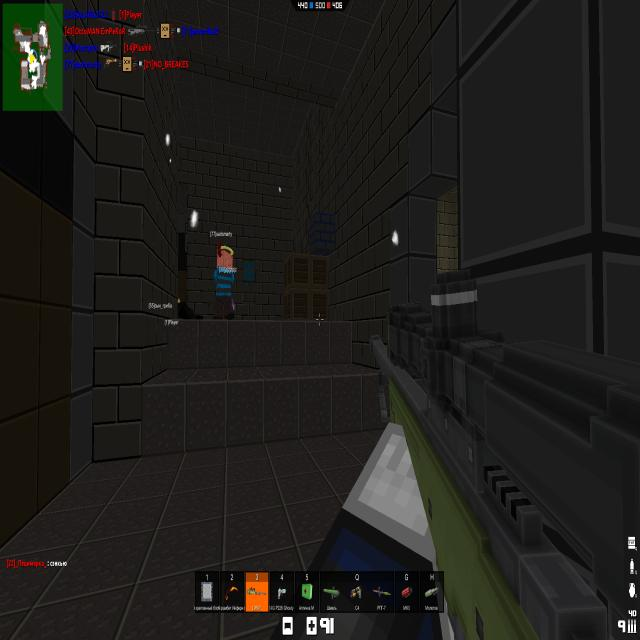player: (213, 242, 236, 320), (177, 299, 202, 320)
